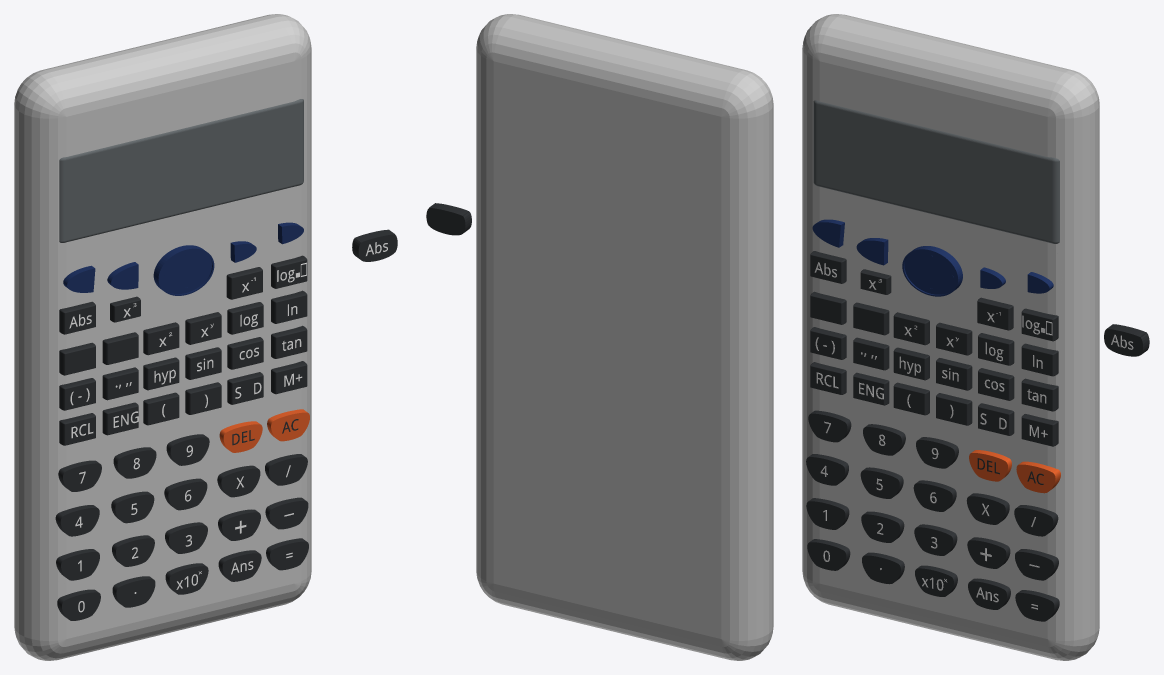
Rendered from tinker.obj.
The picture shows the model from 3 angles, left to right: view 1: azimuth 30°, elevation 25°; view 2: azimuth 150°, elevation 25°; view 3: azimuth 330°, elevation 25°; orthographic projection.
Visible parts, largest first — view 1: group_0_0, group_0_2829873, group_0_6383466, group_0_1650274, group_0_16448250, group_0_14900002; view 2: group_0_0, group_0_2829873; view 3: group_0_0, group_0_2829873, group_0_6383466, group_0_1650274, group_0_16448250, group_0_14900002.
Part boxes in pixels (x1,y1,x2,y2): group_0_0: (14,14,311,660); group_0_2829873: (55,229,397,620); group_0_6383466: (59,99,303,242); group_0_1650274: (63,222,303,295); group_0_16448250: (69,242,387,612); group_0_14900002: (219,409,309,452); group_0_0: (476,14,773,660); group_0_2829873: (426,203,471,235); group_0_0: (802,14,1099,660); group_0_2829873: (806,251,1149,621); group_0_6383466: (813,100,1059,243); group_0_1650274: (812,219,1053,296); group_0_16448250: (814,262,1133,609); group_0_14900002: (969,450,1060,493).
Size of the model in its own units: 63.94 by 100 by 12.25.
